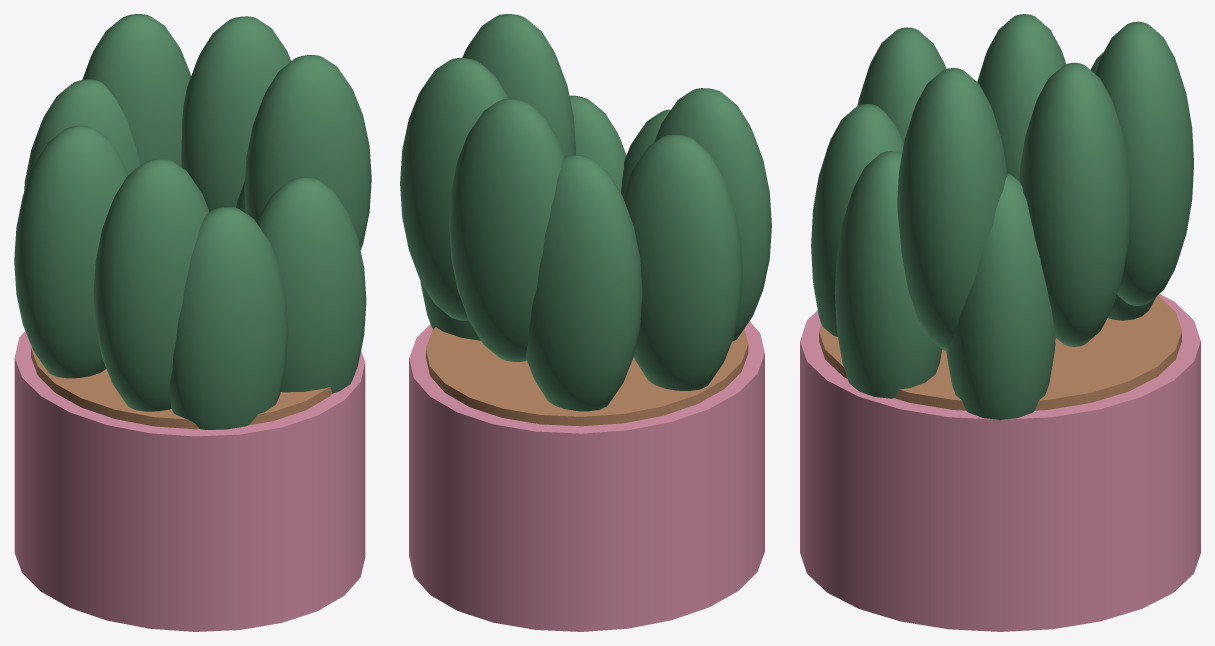
The model's file is plant-small.glb.
3 views of the same model, side by side, from view 1: azimuth 30°, elevation 25°; view 2: azimuth 150°, elevation 25°; view 3: azimuth 270°, elevation 25° (orthographic). The views are drawn at different scales.
Visible parts, largest first — view 1: plant-small; view 2: plant-small; view 3: plant-small.
Boxes of the visible parts, x1,y1,x2,y2 form: plant-small: (14, 14, 371, 631); plant-small: (400, 14, 771, 631); plant-small: (800, 14, 1200, 631).
Bounding box in the file's own units: 15 × 22 × 15.
